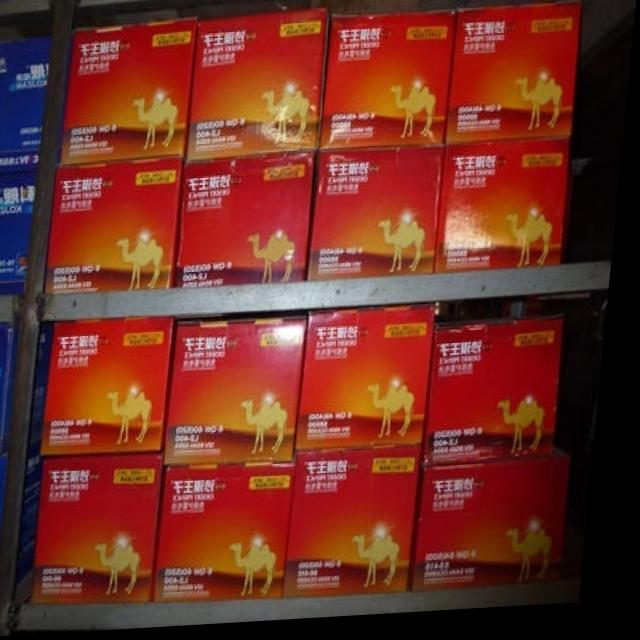box: (422, 455, 582, 597), (190, 11, 329, 165), (173, 321, 314, 468), (295, 452, 430, 602), (433, 328, 570, 472), (305, 311, 442, 455), (44, 454, 173, 606), (63, 20, 198, 165), (167, 465, 306, 605), (450, 8, 581, 150), (181, 156, 319, 290), (51, 159, 185, 296), (313, 150, 448, 285), (323, 16, 455, 154), (49, 319, 181, 457), (440, 147, 572, 280), (0, 38, 52, 171), (0, 170, 41, 285), (0, 324, 26, 454), (0, 457, 17, 601)
